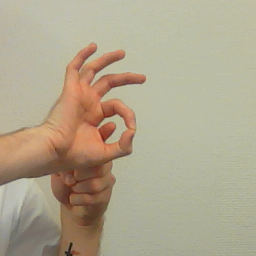Q: (41, 41, 149, 229)
